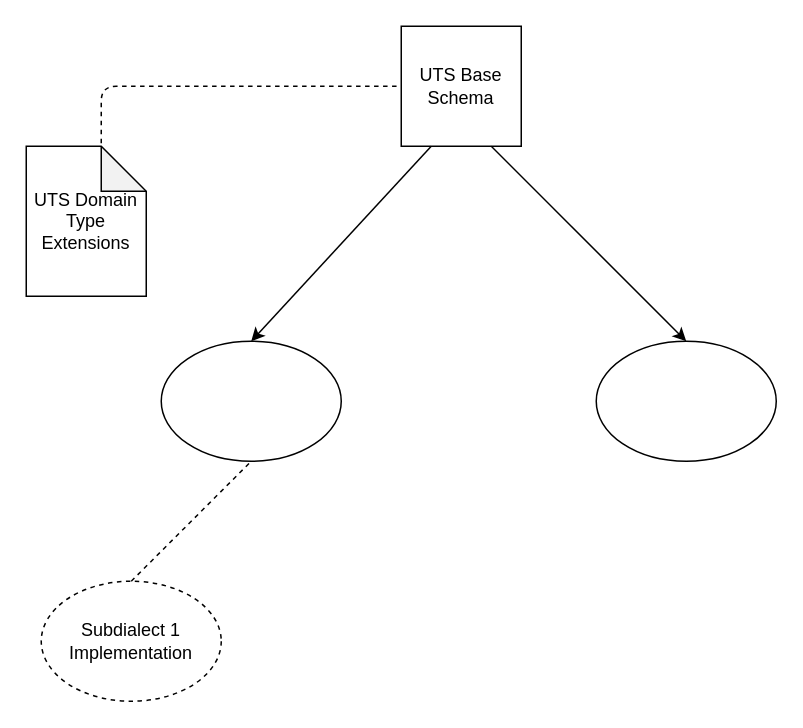
Some shapes in this 803 by 728 pixel diagram are drawn without their labels. The shapes that lost their labels are listed below. From the top down, each one's centre as x and y in pixels, then its label:
At [250,400]: "Dialect 1 Implentation".
At [685,400]: "Dialect 2 Implementation".
